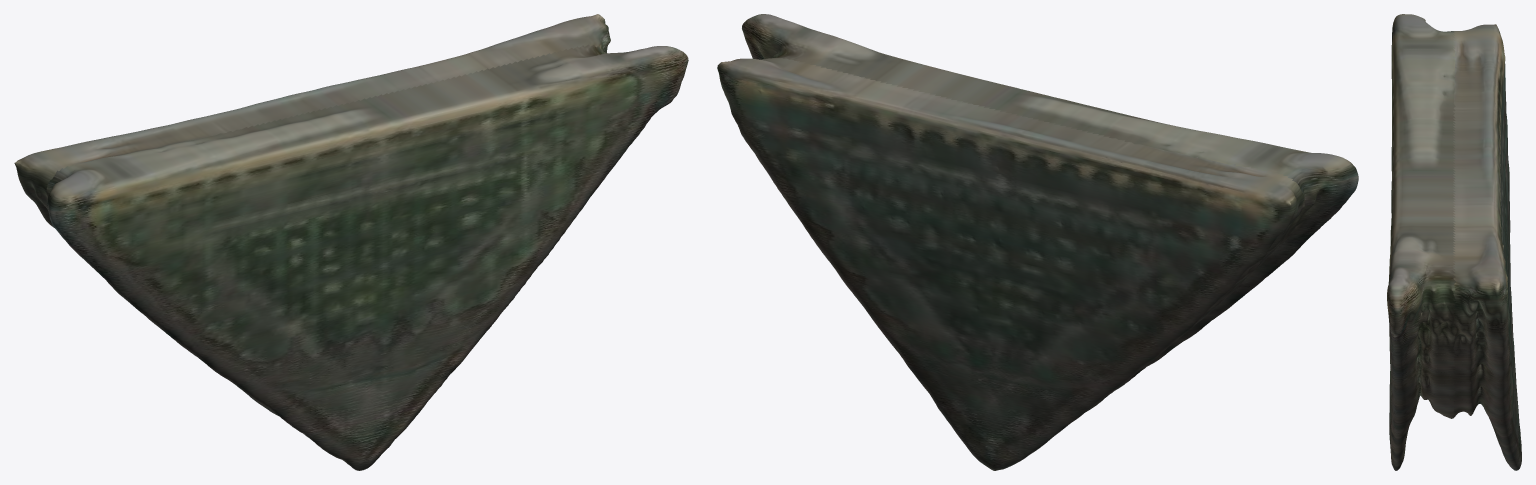
File: kfl-2204.glb
3 views of the same model, side by side, from view 1: azimuth 30°, elevation 25°; view 2: azimuth 150°, elevation 25°; view 3: azimuth 270°, elevation 25° (orthographic). The views are drawn at different scales.
Visible parts, largest first — view 1: geometry_0; view 2: geometry_0; view 3: geometry_0.
Part boxes in pixels (bbox=[...]): geometry_0: bbox=[14, 14, 688, 470]; geometry_0: bbox=[717, 14, 1358, 470]; geometry_0: bbox=[1387, 14, 1521, 470].
Bounding box in the file's own units: 0.9907 × 0.5226 × 0.1973.
1 material, 1 textured.
